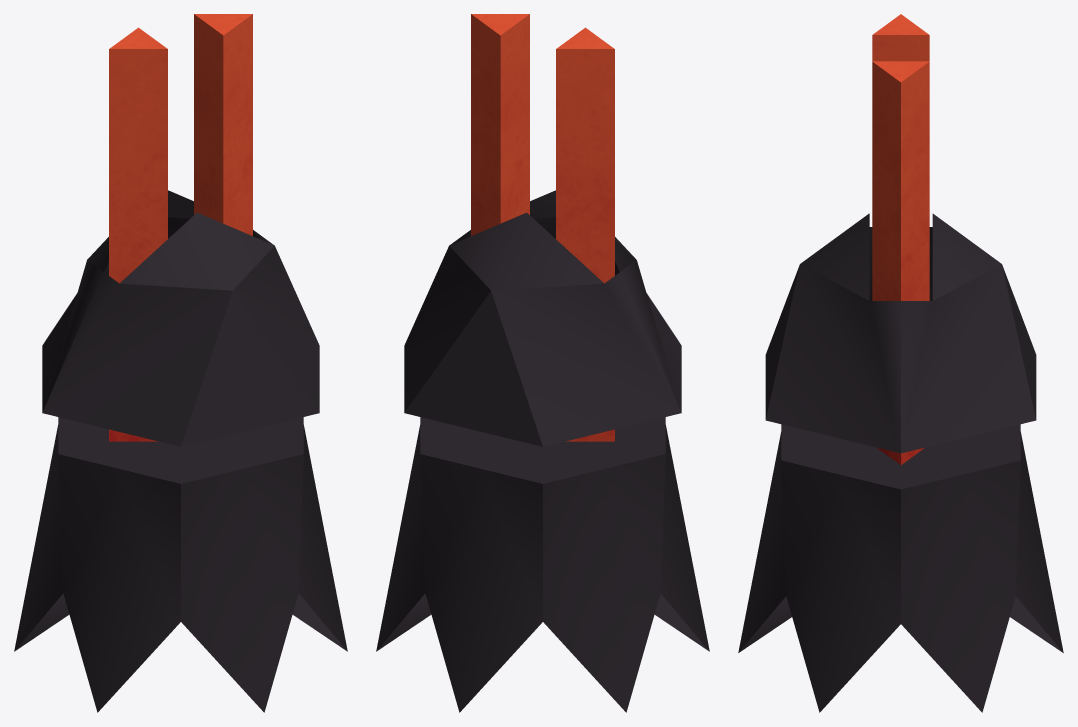
The model's file is BattleshipMissile_Model.obj.
The picture shows the model from 3 angles, left to right: view 1: azimuth 30°, elevation 25°; view 2: azimuth 150°, elevation 25°; view 3: azimuth 270°, elevation 25°; orthographic projection. The views are drawn at different scales.
Visible parts, largest first — view 1: BattleshipMissile_Mesh BattleshipMissile_Mesh_grp; view 2: BattleshipMissile_Mesh BattleshipMissile_Mesh_grp; view 3: BattleshipMissile_Mesh BattleshipMissile_Mesh_grp.
Boxes of the visible parts, <box> form: BattleshipMissile_Mesh BattleshipMissile_Mesh_grp: <box>14,14,347,712</box>; BattleshipMissile_Mesh BattleshipMissile_Mesh_grp: <box>376,14,709,712</box>; BattleshipMissile_Mesh BattleshipMissile_Mesh_grp: <box>738,14,1063,712</box>.
Size of the model in its own units: 12.2 by 26.09 by 12.72.
1 material, 1 textured.
